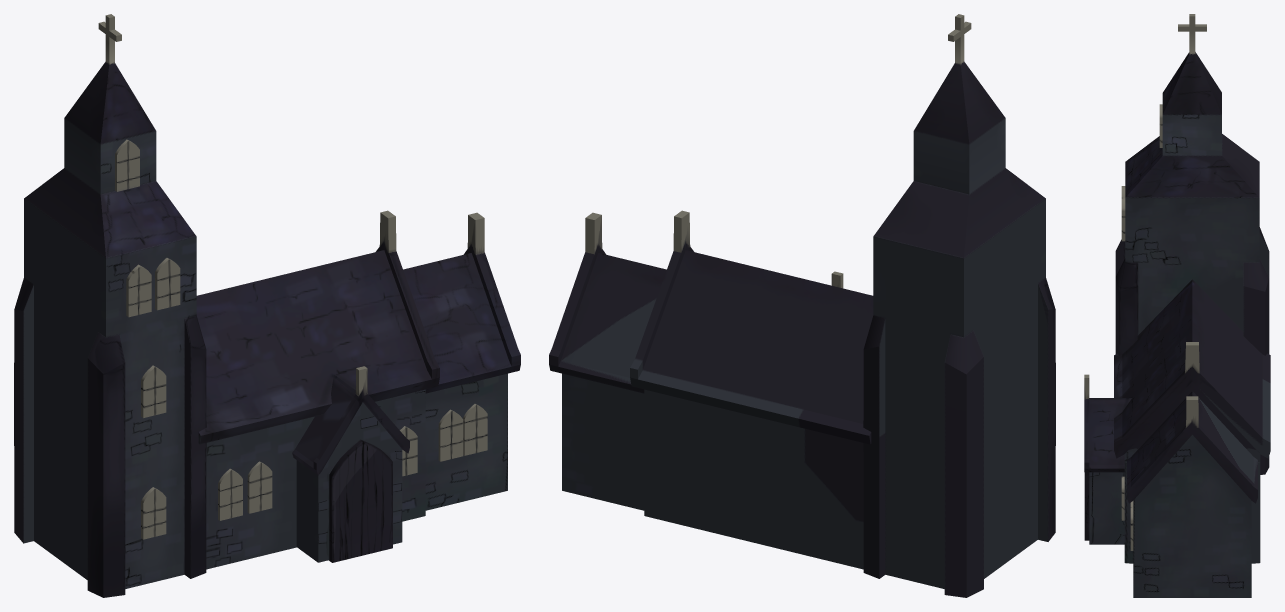
File: Church.fbx
3 views of the same model, side by side, from view 1: azimuth 30°, elevation 25°; view 2: azimuth 150°, elevation 25°; view 3: azimuth 270°, elevation 25° (orthographic). The views are drawn at different scales.
Parts seen in each view (by area): view 1: pCube3, pCube1, pCube4, pCube14, pCube19, pCube16, pCube17, pCube18, pCube5, pCube8, pCube11, pCube6 (+1 smaller); view 2: pCube1, pCube3; view 3: pCube1, pCube3, pCube4, pCube14.
Boxes of the visible parts, bbox=[...] form: pCube3: bbox=[14, 14, 206, 597]; pCube1: bbox=[196, 210, 520, 569]; pCube4: bbox=[292, 366, 409, 562]; pCube14: bbox=[329, 439, 392, 562]; pCube19: bbox=[141, 365, 166, 417]; pCube16: bbox=[155, 258, 180, 310]; pCube17: bbox=[126, 264, 151, 317]; pCube18: bbox=[141, 487, 166, 539]; pCube5: bbox=[247, 461, 272, 513]; pCube8: bbox=[438, 409, 463, 461]; pCube11: bbox=[115, 139, 139, 191]; pCube6: bbox=[218, 468, 242, 520]; pCube1: bbox=[549, 210, 873, 569]; pCube3: bbox=[863, 14, 1055, 597]; pCube1: bbox=[1114, 279, 1270, 597]; pCube3: bbox=[1115, 14, 1269, 474]; pCube4: bbox=[1084, 374, 1131, 544]; pCube14: bbox=[1084, 472, 1089, 540].
Size of the model in its own units: 1312 by 1579 by 608.
